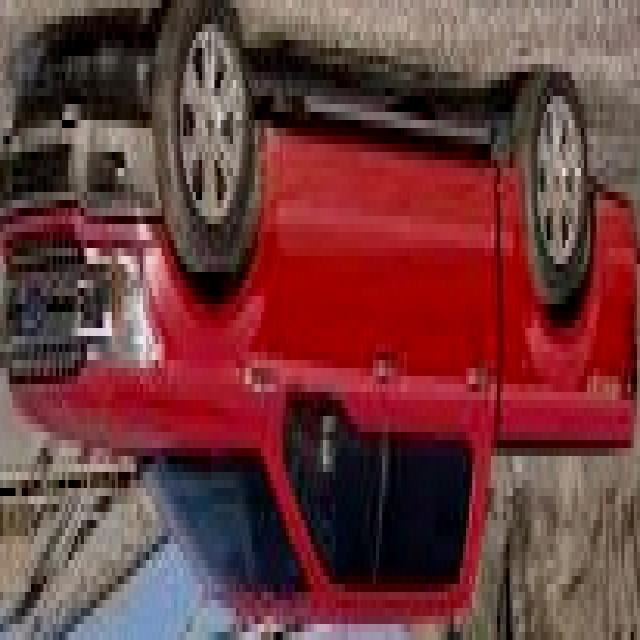red: (11, 106, 636, 618)
